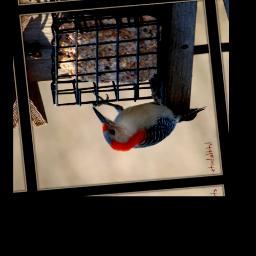Woodpecker: (91, 84, 211, 154)
